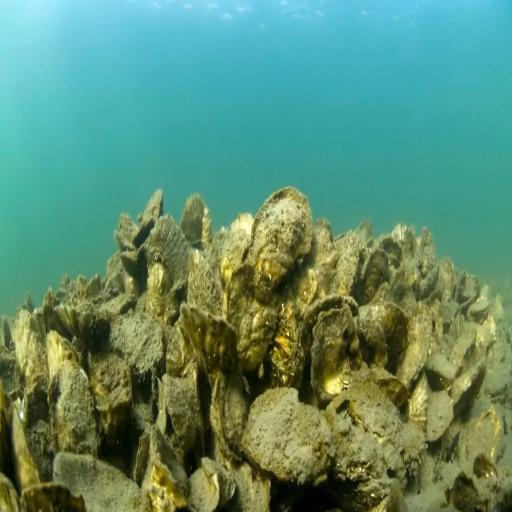Oyster-Closed: (245, 390, 337, 484), (252, 192, 313, 302), (227, 263, 280, 377), (293, 297, 362, 378), (184, 306, 244, 393), (54, 457, 145, 512), (50, 362, 100, 460), (142, 428, 194, 512), (149, 215, 190, 296), (349, 386, 403, 442), (363, 305, 415, 359), (397, 316, 433, 392), (188, 249, 226, 320), (12, 409, 42, 495), (91, 351, 132, 413), (168, 376, 199, 451), (167, 318, 201, 385), (357, 250, 393, 308), (450, 363, 487, 419), (224, 214, 254, 283), (46, 332, 84, 382), (22, 486, 92, 512), (332, 234, 361, 296), (180, 196, 210, 245), (1, 378, 15, 476), (405, 379, 429, 432), (374, 379, 409, 406), (1, 468, 22, 512), (425, 354, 457, 382), (393, 226, 417, 256), (142, 191, 165, 220), (439, 260, 455, 301), (469, 300, 491, 317)
Oyster-Open: (212, 379, 252, 464), (453, 472, 484, 512)
